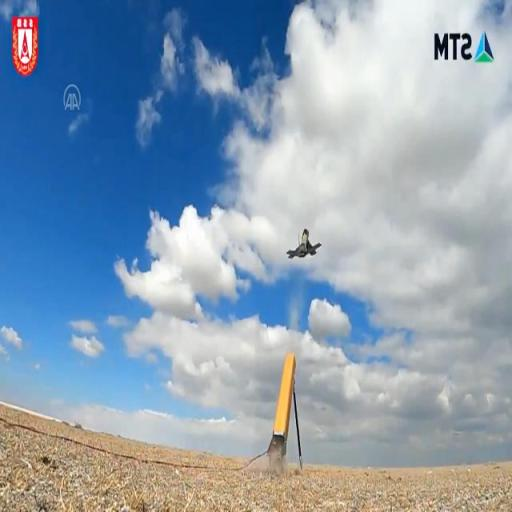uav: (287, 215, 323, 268)
